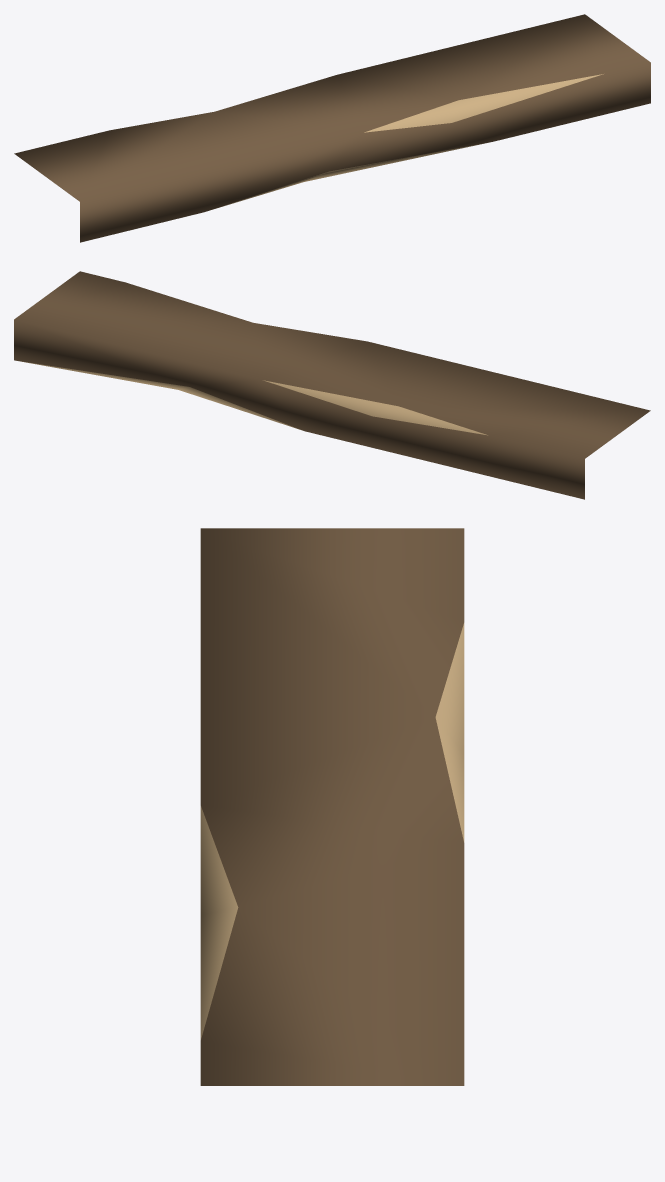
File: rpgpp_av_wall_connector_bottom_01b_3m.gltf
3 renders of one model, top to bottom at view 1: azimuth 30°, elevation 25°; view 2: azimuth 150°, elevation 25°; view 3: azimuth 270°, elevation 25°, orthographic. The views are drawn at different scales.
Parts seen in each view (by area): view 1: rpgpp_av_wall_connector_bottom_01b_3m; view 2: rpgpp_av_wall_connector_bottom_01b_3m; view 3: rpgpp_av_wall_connector_bottom_01b_3m.
Part boxes in pixels (box(x1,y1,x2,y2)): rpgpp_av_wall_connector_bottom_01b_3m: box(14, 14, 650, 242); rpgpp_av_wall_connector_bottom_01b_3m: box(14, 271, 650, 499); rpgpp_av_wall_connector_bottom_01b_3m: box(200, 528, 464, 1085).
Bounding box in the file's own units: 0.03 × 0.00205 × 0.006.
1 material, 1 textured.
